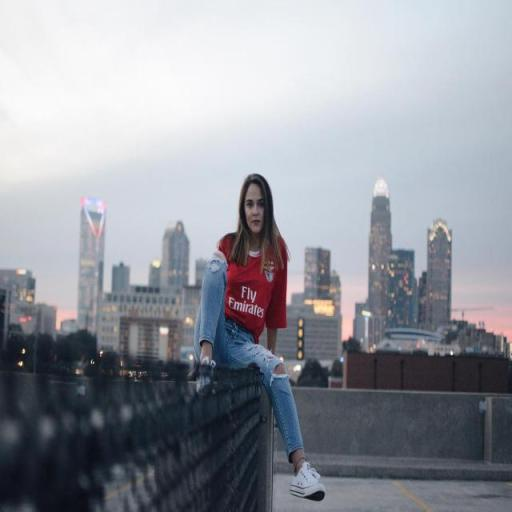Emirates: (226, 284, 266, 322)
